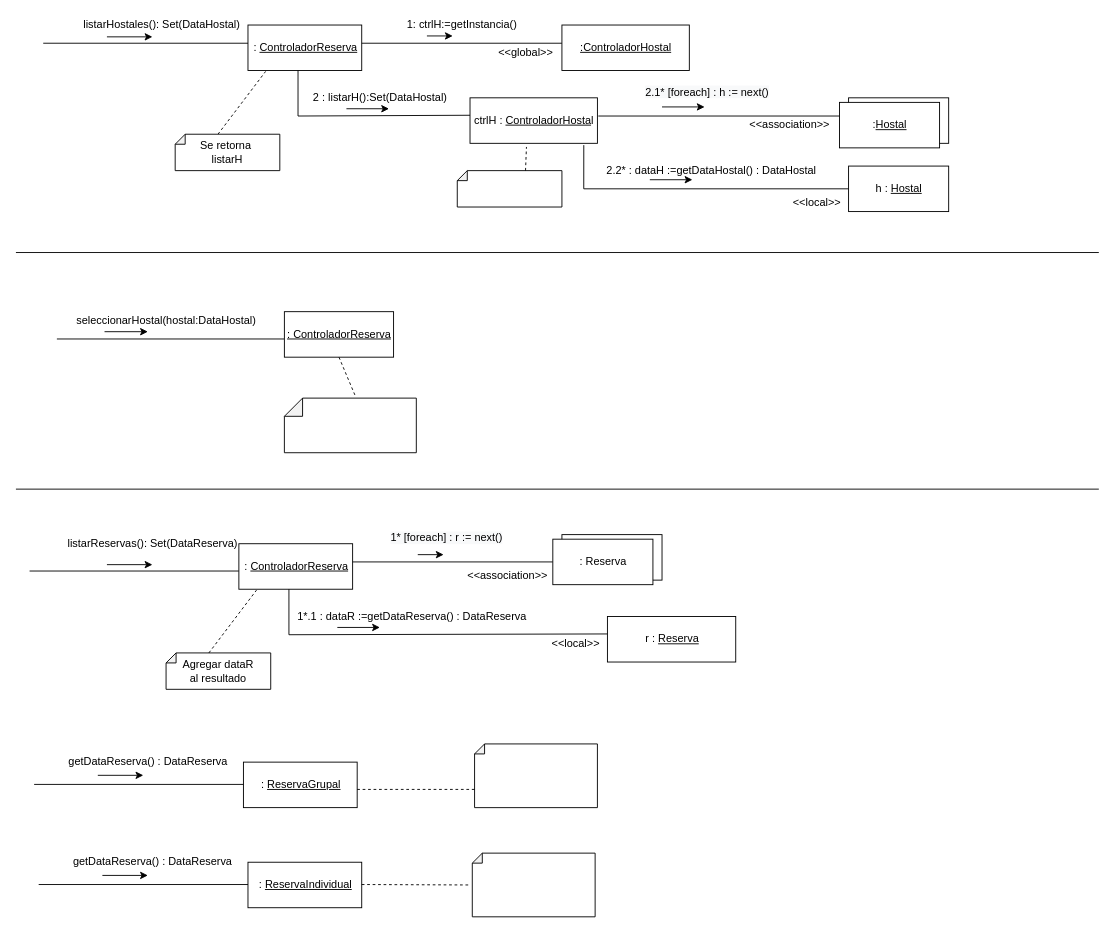
This 1116x933 diagram has some shape labels left out. Here are the shapes that lost their labels. From the top down, the centre of each, then its label:
At (509,188): "Agregar dataH al resultado".
At (349,425): "Recuerda hostal de tipo DataHostal".
At (535,775): "Devuelve un DataReserva con las reservas grupales".
At (533,884): "Devuelve un DataReserva con las reservas individuales".
